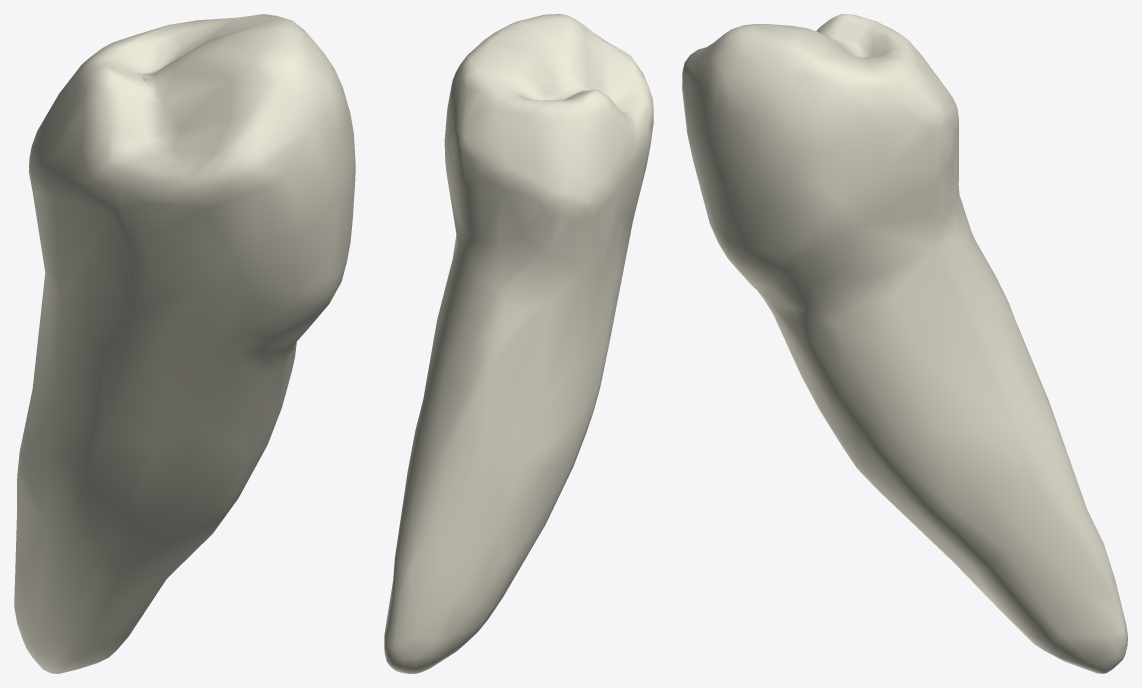
File: Left first lower premolar tooth.fbx
3 views of the same model, side by side, from view 1: azimuth 30°, elevation 25°; view 2: azimuth 150°, elevation 25°; view 3: azimuth 270°, elevation 25° (orthographic). The views are drawn at different scales.
Parts seen in each view (by area): view 1: Left first lower premolar tooth; view 2: Left first lower premolar tooth; view 3: Left first lower premolar tooth.
Part boxes in pixels (x1=…): Left first lower premolar tooth: x1=14, y1=14, x2=355, y2=673; Left first lower premolar tooth: x1=384, y1=14, x2=653, y2=673; Left first lower premolar tooth: x1=682, y1=14, x2=1127, y2=673.
Size of the model in its own units: 1.05 by 2.99 by 1.89.
